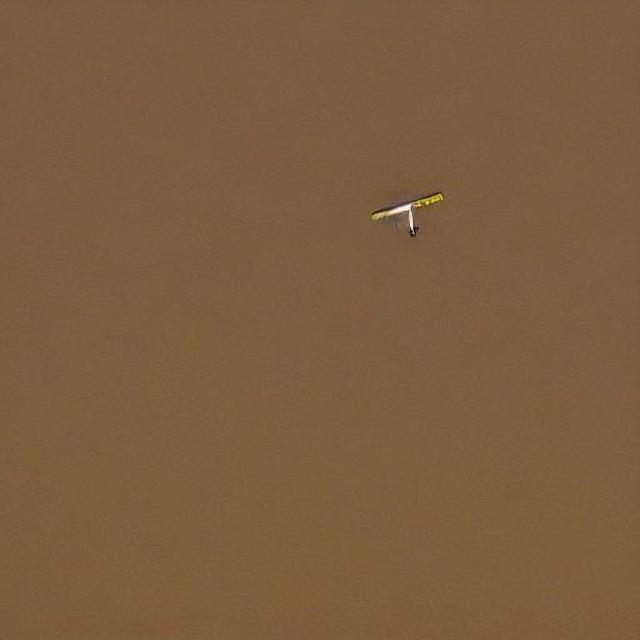floating object: (372, 188, 445, 236)
